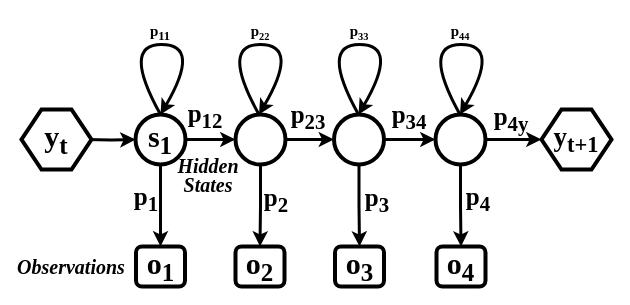
Some shapes in this 630 by 305 pixel diagram are drawn without their labels. Each missing label, with the centre of its shape:
"s 2" goes at point 260,139.
"s 3" goes at point 359,139.
"s 4" goes at point 460,139.
